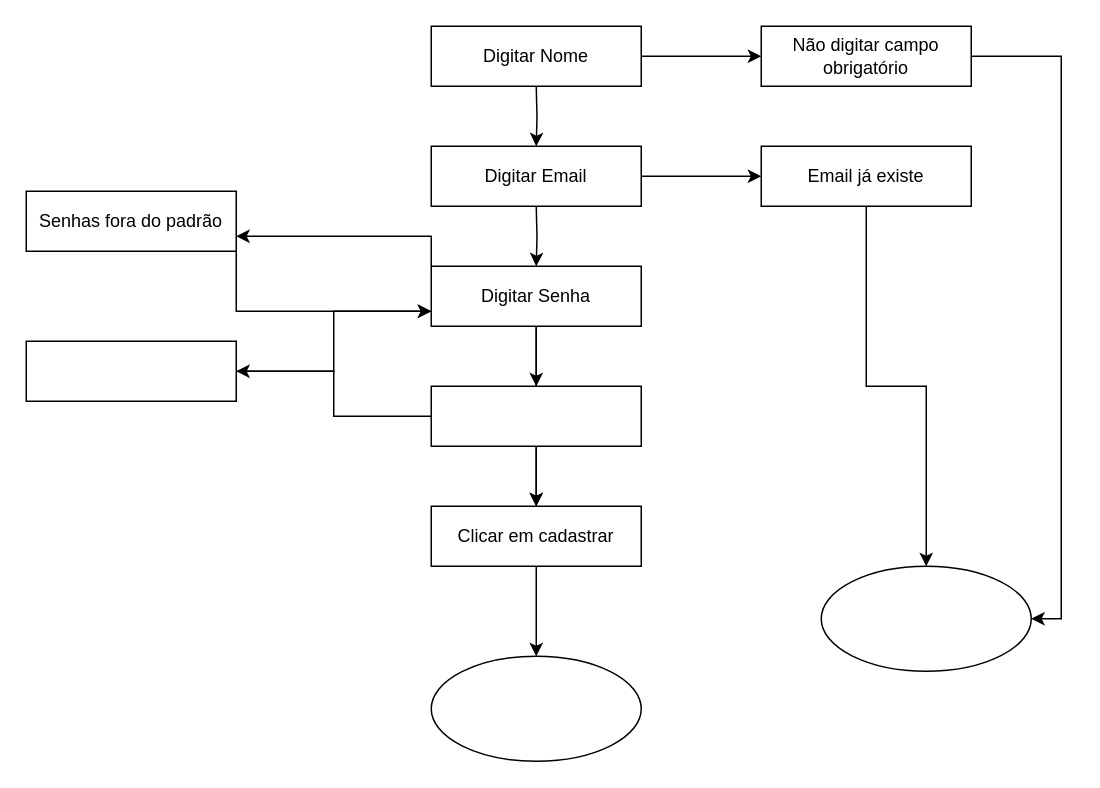
The diagram is 1100 pixels wide and 788 high, and some of its shapes have lost their labels. The centre of each missing label's shape, as x and y in pixels:
Confirmar Senha: point (535, 415)
Efetuar cadastro: point (535, 708)
Mensagem de erro: point (925, 618)
Senhas não são iguais: point (130, 370)
